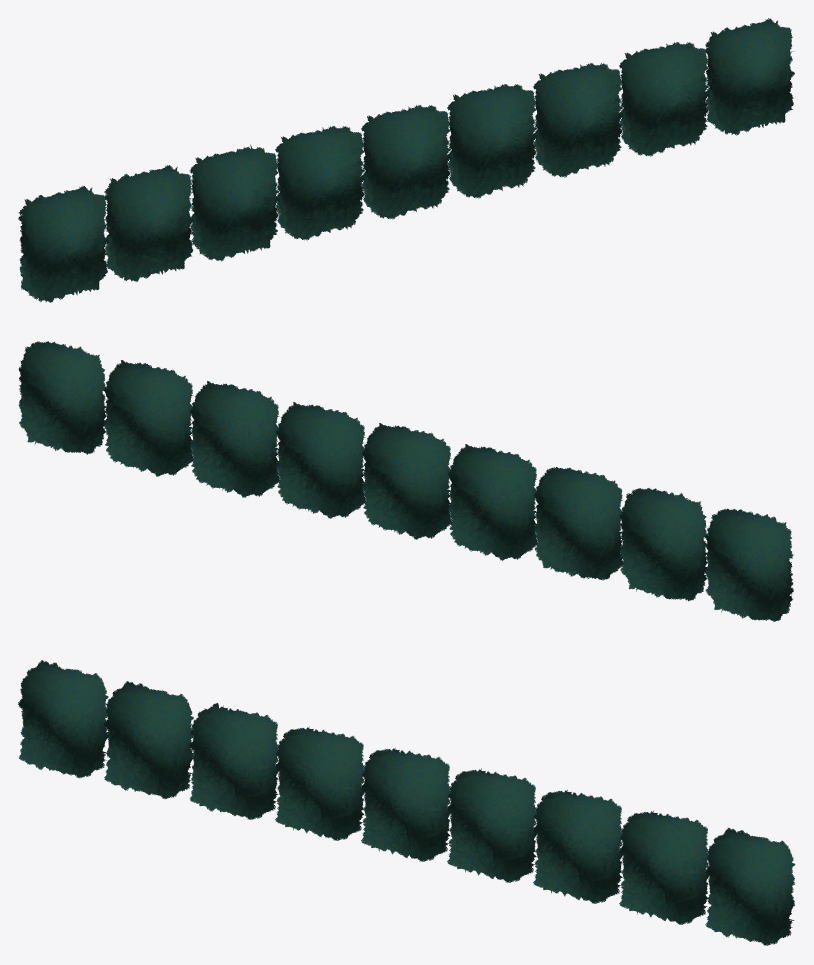
File: SM_Bush05_Splines_28.fbx
The picture shows the model from 3 angles, top to bottom: view 1: azimuth 30°, elevation 25°; view 2: azimuth 150°, elevation 25°; view 3: azimuth 330°, elevation 25°; orthographic projection.
Visible parts, largest first — view 1: SM_Bush05_Splines_28_LOD0; view 2: SM_Bush05_Splines_28_LOD0; view 3: SM_Bush05_Splines_28_LOD0.
Boxes of the visible parts, left/top/right/bottom form: SM_Bush05_Splines_28_LOD0: left=18, top=18, right=794, bottom=302; SM_Bush05_Splines_28_LOD0: left=18, top=341, right=793, bottom=621; SM_Bush05_Splines_28_LOD0: left=18, top=660, right=795, bottom=945.
Bounding box in the file's own units: 4573 × 311 × 607.
